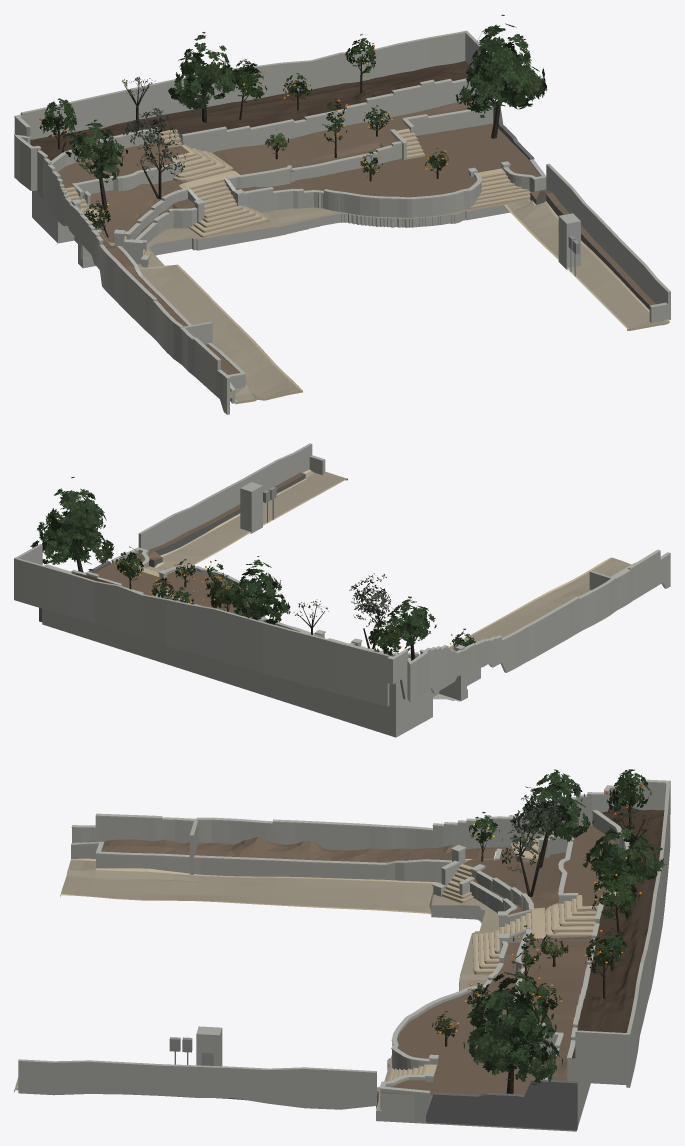
File: reconstruction-2f977e3d2892.glb
The picture shows the model from 3 angles, top to bottom: view 1: azimuth 30°, elevation 25°; view 2: azimuth 150°, elevation 25°; view 3: azimuth 270°, elevation 25°; orthographic projection. The views are drawn at different scales.
Visible parts, largest first — view 1: ground-terraces, wall-rear-boundary, wall-west-boundary-rear, ground-side-west, planting-tree-14, wall-wa, wall-we, ground-side-east, wall-east-side-boundary, wall-wb, planting-tree-03, planting-tree-02 (+19 smaller); view 2: wall-rear-boundary, ground-terraces, wall-west-boundary-rear, wall-east-side-boundary, planting-tree-14, ground-side-east, ground-side-west, planting-tree-03, planting-tree-02, planter-fill-east-side, planting-tree-01, coping-west-boundary-rear (+4 smaller); view 3: ground-terraces, ground-side-west, wall-east-side-boundary, wall-west-boundary-rear, planting-tree-14, wall-west-side-retaining, slot-filler-east, wall-rear-boundary, planting-tree-03, planting-tree-02, wall-rear-boundary-return-east, planting-tree-01 (+17 smaller).
Part boxes in pixels (x1,y1,x2,y2): ground-terraces: [30, 61, 539, 268]; wall-rear-boundary: [20, 30, 467, 139]; wall-west-boundary-rear: [14, 117, 229, 414]; ground-side-west: [99, 233, 302, 404]; planting-tree-14: [455, 14, 547, 138]; wall-wa: [82, 162, 546, 258]; wall-we: [182, 81, 482, 152]; ground-side-east: [504, 200, 669, 330]; wall-east-side-boundary: [546, 163, 670, 322]; wall-wb: [130, 108, 493, 239]; planting-tree-03: [168, 32, 237, 122]; planting-tree-02: [62, 119, 127, 208]; wall-rear-boundary: [14, 557, 389, 706]; ground-terraces: [42, 552, 480, 737]; wall-west-boundary-rear: [387, 551, 670, 702]; wall-east-side-boundary: [138, 443, 325, 550]; planting-tree-14: [30, 477, 114, 572]; ground-side-east: [154, 469, 347, 570]; ground-side-west: [450, 557, 631, 649]; planting-tree-03: [230, 556, 290, 624]; planting-tree-02: [383, 596, 436, 660]; planter-fill-east-side: [148, 472, 305, 567]; planting-tree-01: [349, 573, 399, 648]; coping-west-boundary-rear: [387, 549, 670, 664]; ground-terraces: [376, 804, 664, 1131]; ground-side-west: [60, 837, 495, 914]; wall-east-side-boundary: [18, 1059, 376, 1109]; wall-west-boundary-rear: [72, 782, 670, 851]; planting-tree-14: [463, 961, 562, 1093]; wall-west-side-retaining: [71, 844, 448, 882]; slot-filler-east: [426, 1079, 577, 1130]; wall-rear-boundary: [626, 781, 670, 1087]; planting-tree-03: [583, 809, 666, 917]; planting-tree-02: [516, 769, 593, 868]; wall-rear-boundary-return-east: [575, 1030, 626, 1080]; planting-tree-01: [501, 786, 567, 896].
Size of the model in its own units: 36.25 by 10.62 by 35.19.
18 materials, 6 textured.
